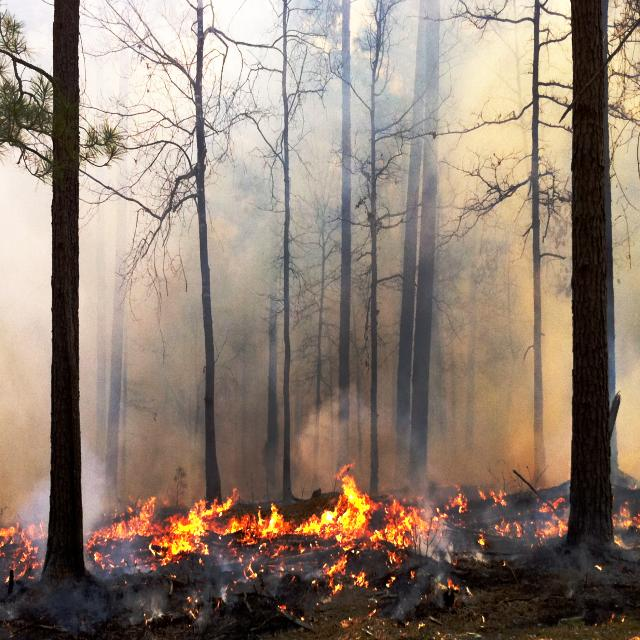api: (183, 501, 291, 553), (316, 477, 373, 556), (108, 506, 179, 562), (379, 497, 421, 558), (321, 559, 369, 601)
asap: (309, 387, 391, 468), (118, 559, 173, 631), (470, 518, 566, 556), (183, 576, 250, 630), (6, 458, 46, 545), (425, 511, 455, 591)
